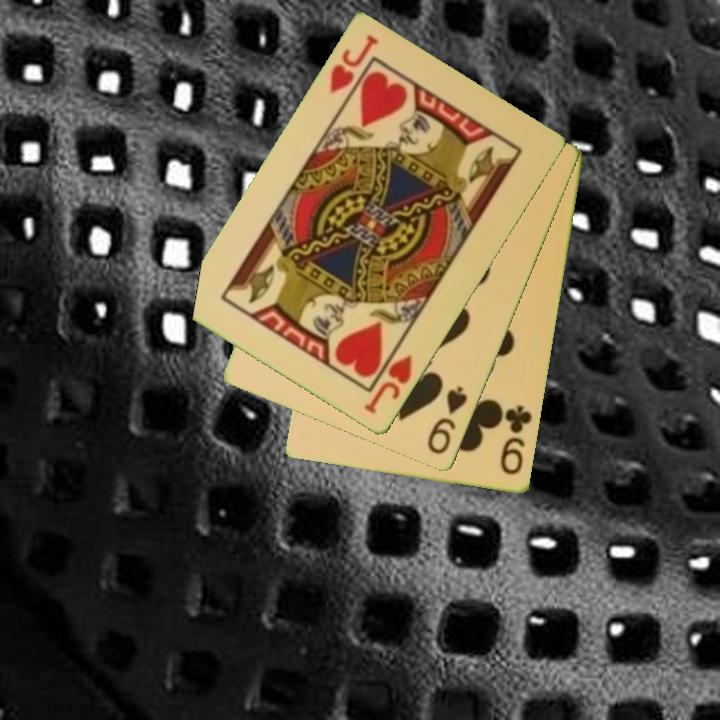9c: (497, 402, 536, 478)
9s: (424, 383, 471, 458)
Jh: (326, 31, 382, 97), (360, 351, 415, 418)
